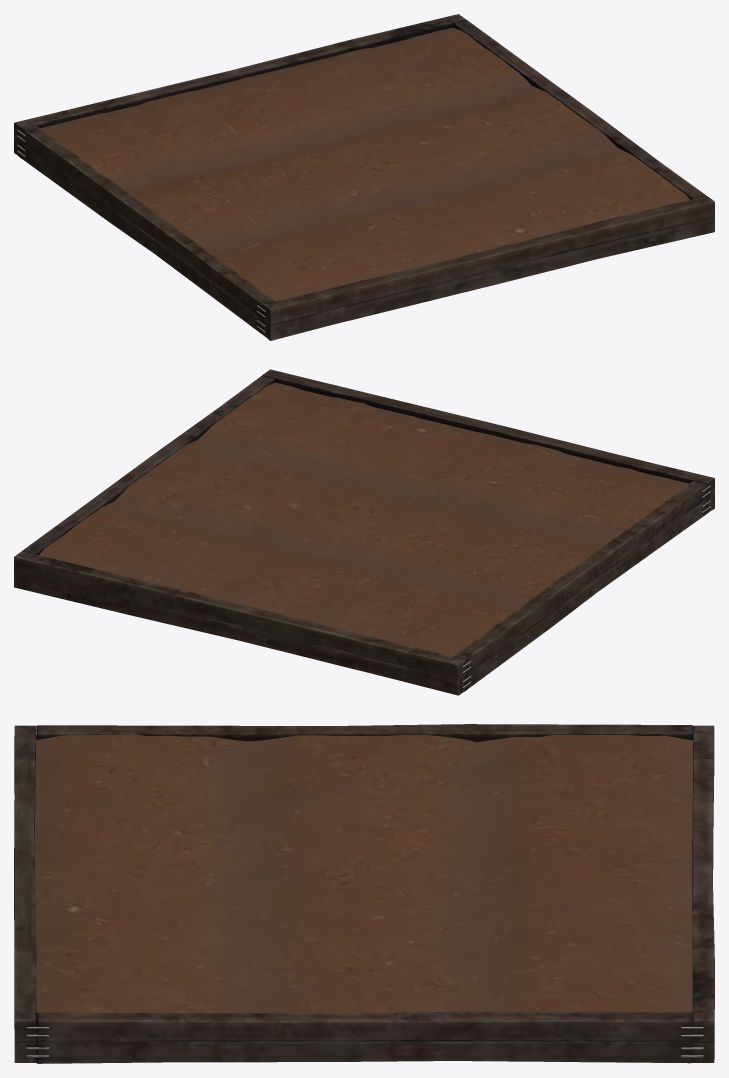
The model's file is SM_FarmGround_b19b95.glb.
3 renders of one model, top to bottom at view 1: azimuth 30°, elevation 25°; view 2: azimuth 150°, elevation 25°; view 3: azimuth 270°, elevation 25°, orthographic. The views are drawn at different scales.
Size of the model in its own units: 5.73 by 0.4167 by 5.71.
2 materials, 2 textured.
